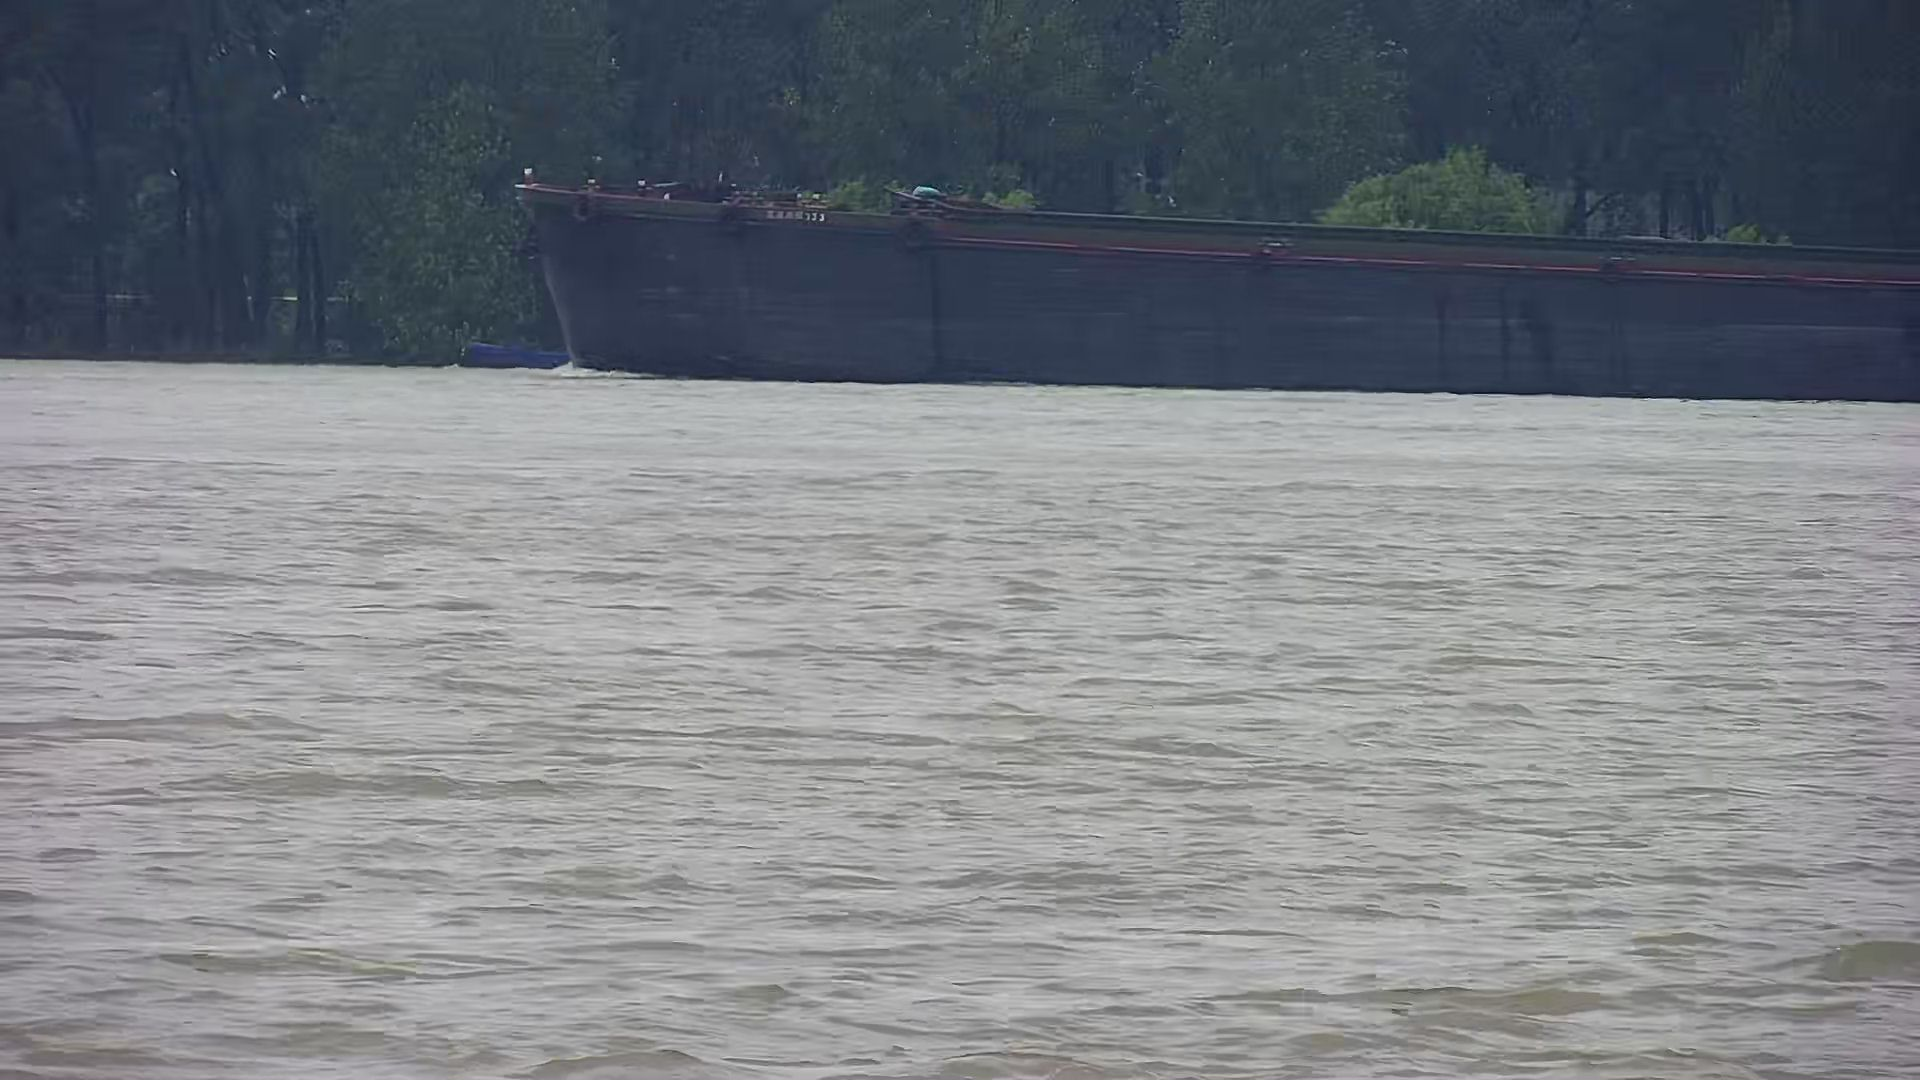boat: (459, 310, 674, 378)
ship: (517, 145, 1920, 414)
